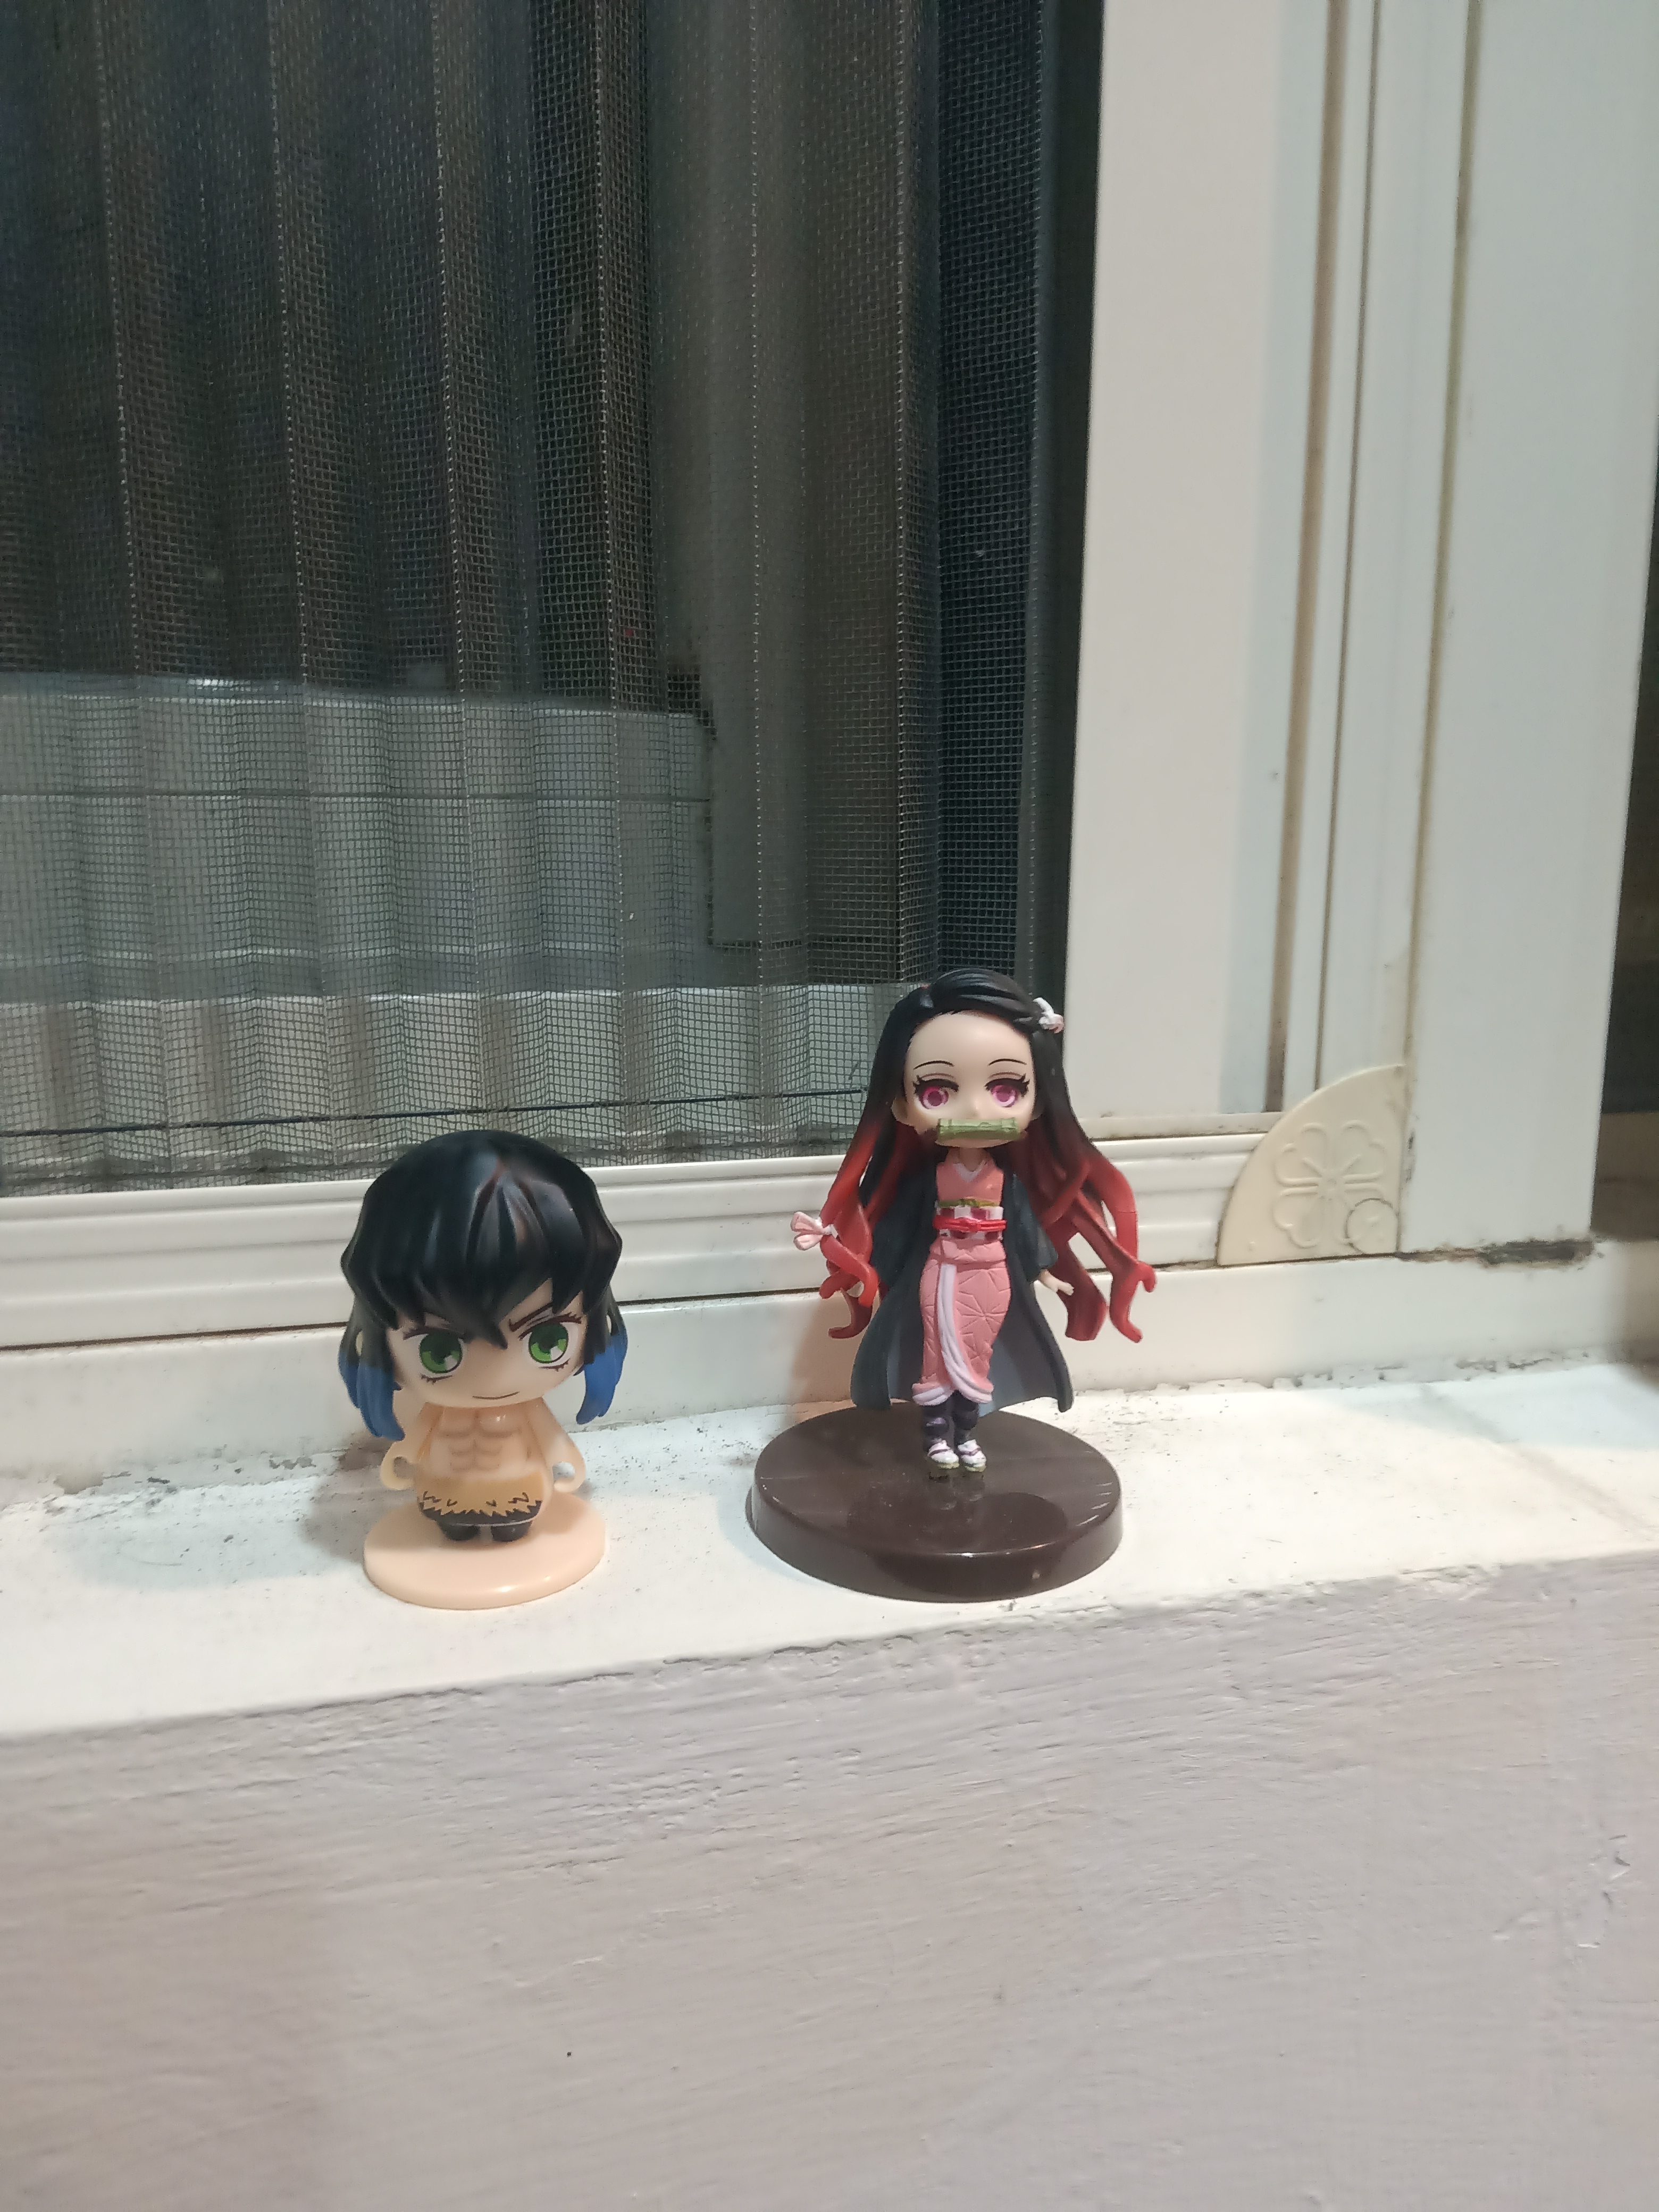Inosuke: (270, 1118, 652, 1630)
Nezuko: (720, 958, 1182, 1615)
